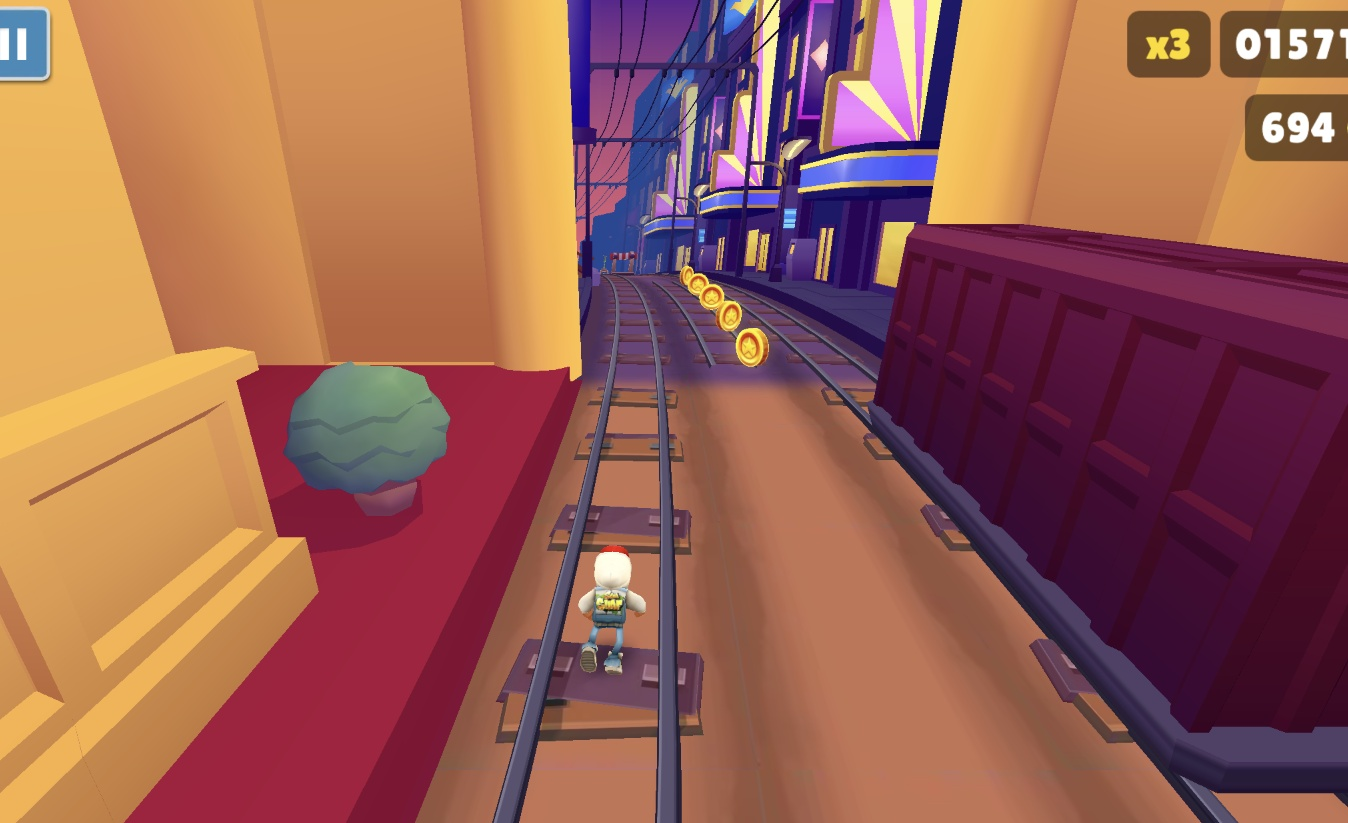ground_barrier: (610, 250, 640, 277)
pillar: (0, 0, 320, 823)
train: (869, 223, 1348, 806)
